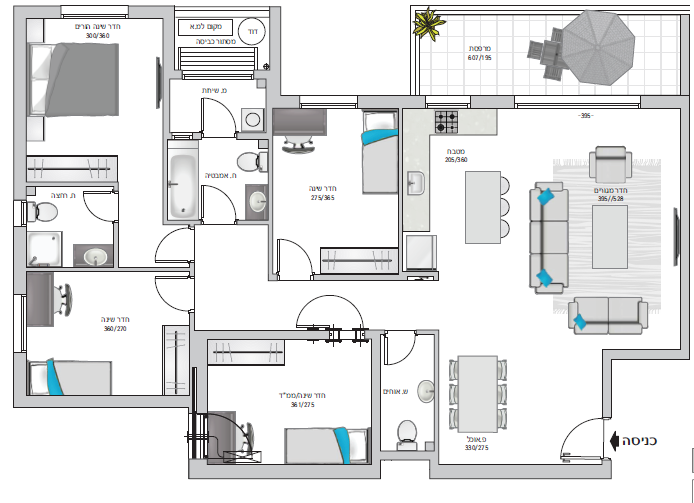door: (556, 411, 596, 461), (149, 272, 187, 312), (149, 224, 187, 264), (274, 232, 312, 272), (198, 178, 236, 218), (197, 92, 238, 125), (74, 187, 109, 224), (381, 338, 420, 370)
wall: (679, 95, 689, 358), (188, 465, 379, 478), (428, 465, 610, 478), (15, 395, 188, 408), (13, 5, 25, 183)
window: (514, 100, 643, 110), (18, 294, 28, 354), (299, 100, 357, 108), (61, 12, 119, 20), (425, 103, 471, 110)
